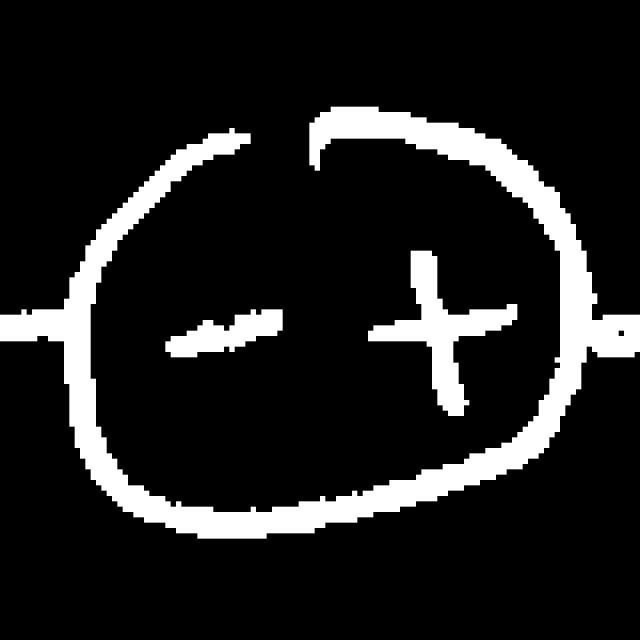voltage_source: (59, 69, 600, 564)
